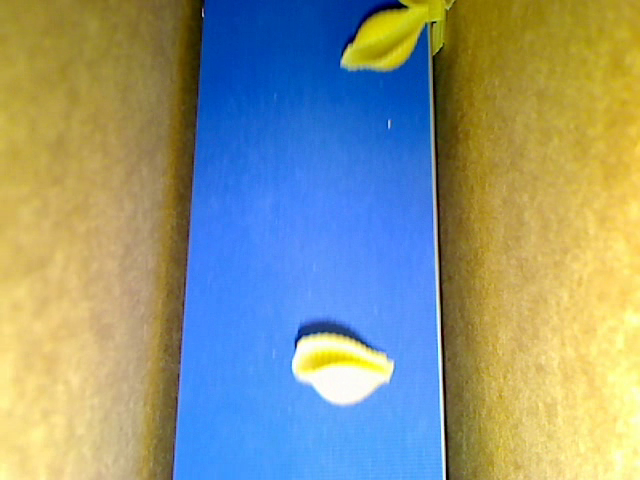penne: (426, 1, 448, 60), (440, 1, 455, 11)
shell: (290, 329, 394, 409), (337, 3, 427, 74)
